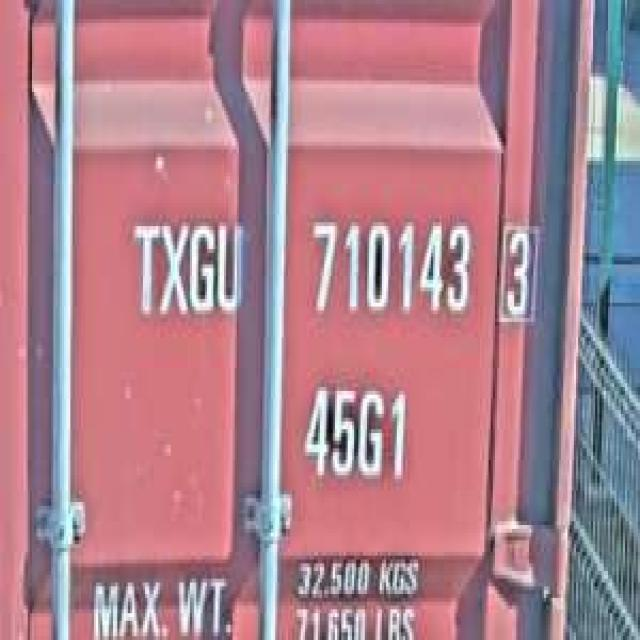dv: (495, 214, 540, 330)
owner: (124, 210, 245, 330)
serial: (303, 203, 474, 330)
size: (299, 372, 414, 494)
